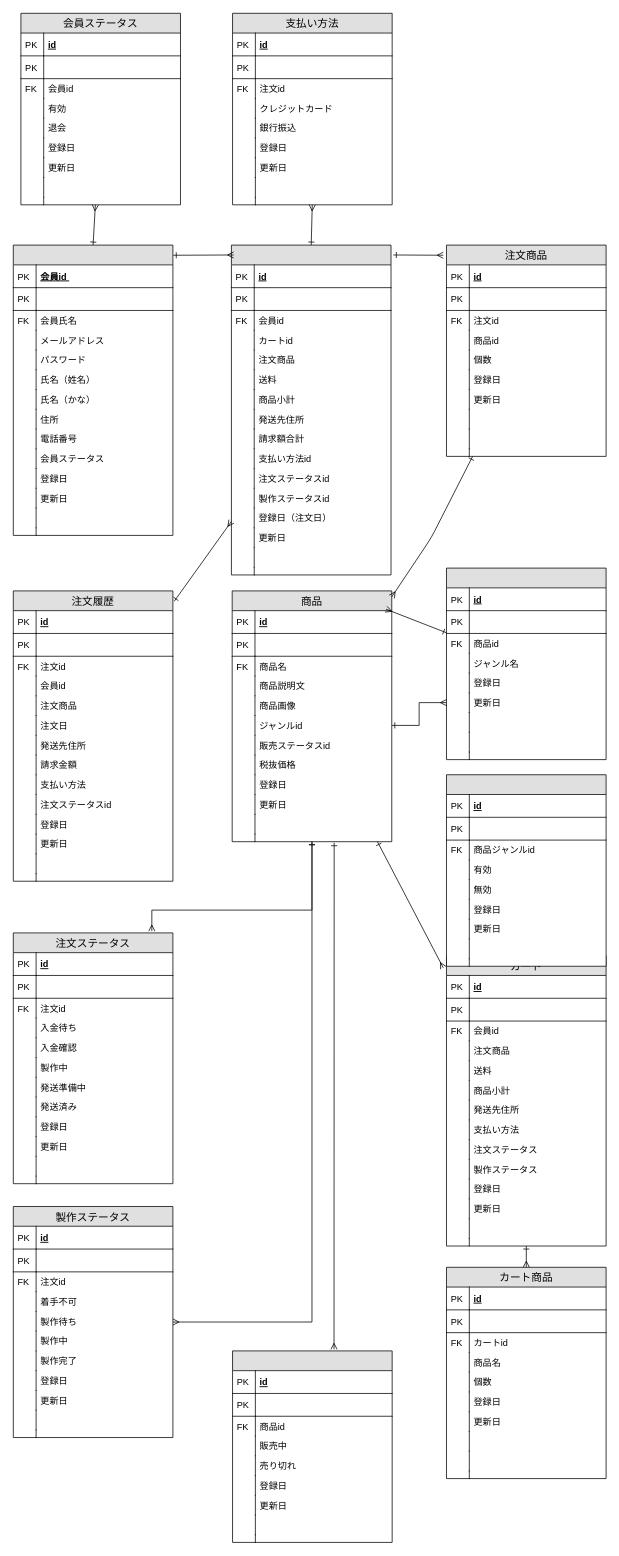
This 619x1556 diagram has some shape labels left out. The box of each missing label's shape, as (x1, y1, x2, y2) in pixels:
会員: (13, 244, 173, 535)
商品ジャンル: (446, 567, 606, 760)
商品ステータス: (446, 774, 606, 966)
注文: (231, 244, 391, 575)
販売ステータス: (232, 1350, 392, 1542)
